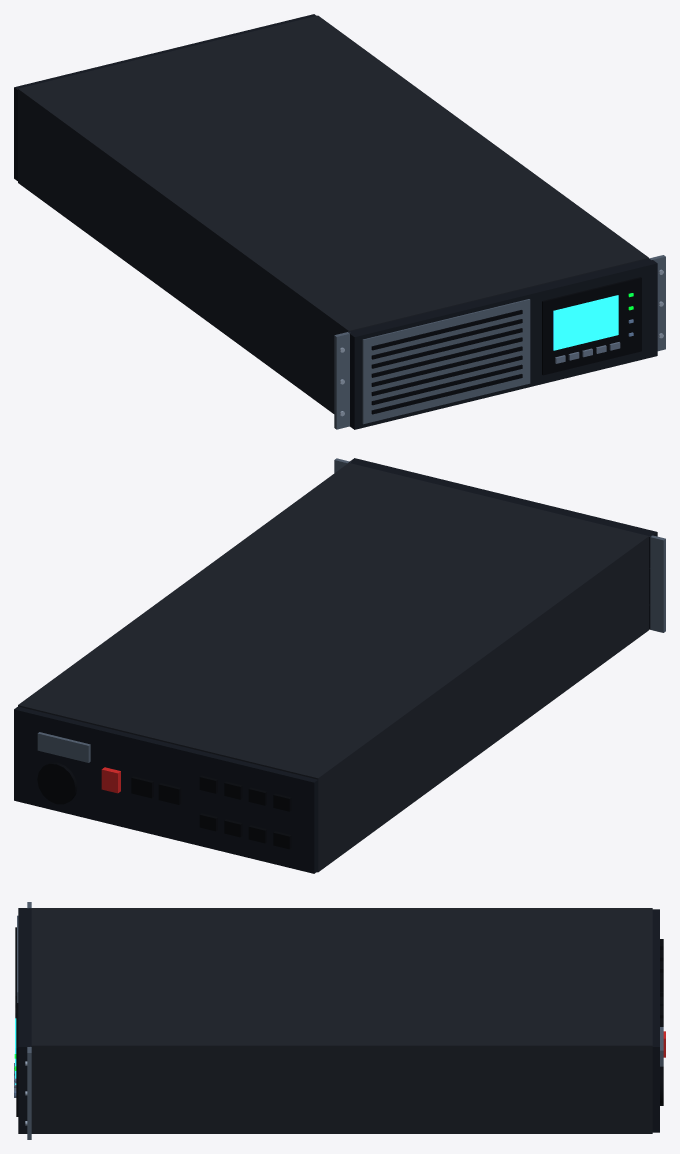
Rendered from generic_ups_3u.glb.
3 views of the same model, one above another, from view 1: azimuth 30°, elevation 25°; view 2: azimuth 150°, elevation 25°; view 3: azimuth 270°, elevation 25° (orthographic). The views are drawn at different scales.
Parts seen in each view (by area): view 1: BATCH_MAT_UPS_BODY, BATCH_MAT_UPS_EAR, BATCH_MAT_UPS_DARK, BATCH_MAT_UPS_BEZEL, BATCH_MAT_UPS_LCD_GLOW; view 2: BATCH_MAT_UPS_BODY, BATCH_MAT_UPS_BEZEL, BATCH_MAT_UPS_DARK, BATCH_MAT_UPS_EAR; view 3: BATCH_MAT_UPS_BODY, BATCH_MAT_UPS_BEZEL, BATCH_MAT_UPS_DARK, BATCH_MAT_UPS_EAR.
Part boxes in pixels (left/top/right/bottom): BATCH_MAT_UPS_BODY: left=18, top=15, right=648, bottom=413; BATCH_MAT_UPS_EAR: left=334, top=255, right=665, bottom=429; BATCH_MAT_UPS_DARK: left=371, top=277, right=641, bottom=414; BATCH_MAT_UPS_BEZEL: left=14, top=14, right=657, bottom=429; BATCH_MAT_UPS_LCD_GLOW: left=553, top=295, right=618, bottom=350; BATCH_MAT_UPS_BODY: left=18, top=463, right=648, bottom=872; BATCH_MAT_UPS_BEZEL: left=14, top=458, right=657, bottom=873; BATCH_MAT_UPS_DARK: left=37, top=762, right=291, bottom=849; BATCH_MAT_UPS_EAR: left=37, top=458, right=665, bottom=762; BATCH_MAT_UPS_BODY: left=31, top=908, right=652, bottom=1133; BATCH_MAT_UPS_BEZEL: left=18, top=908, right=659, bottom=1133; BATCH_MAT_UPS_DARK: left=15, top=927, right=663, bottom=1116; BATCH_MAT_UPS_EAR: left=17, top=902, right=663, bottom=1139.
Size of the model in its own units: 0.4826 by 0.1319 by 0.882.
